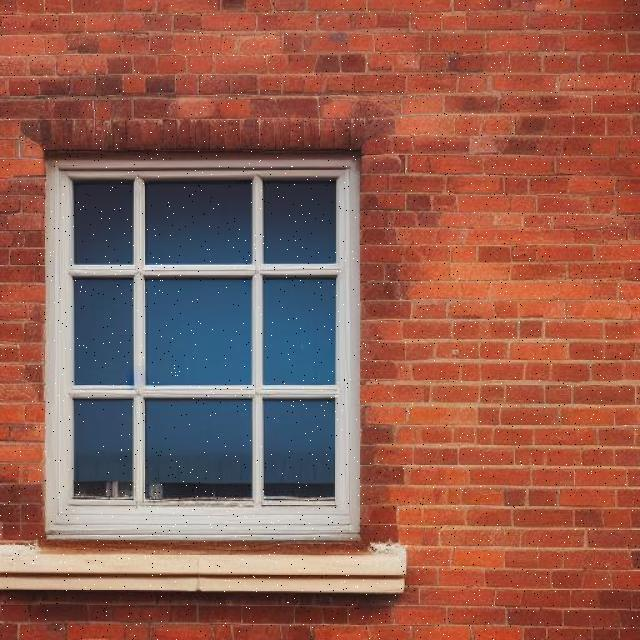window: (43, 152, 360, 540)
